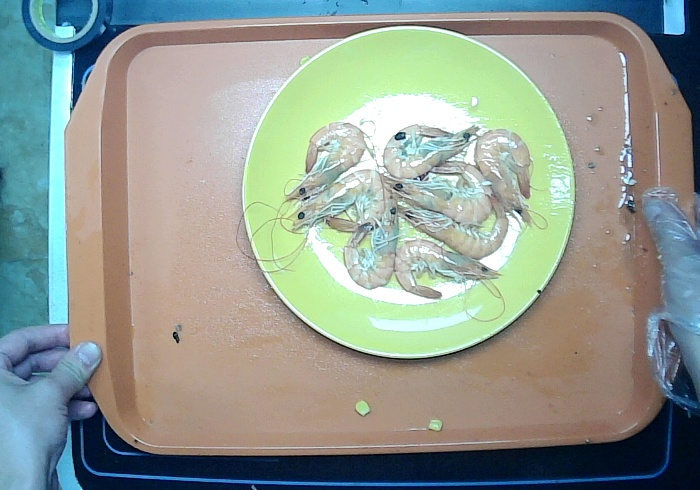HZYJPL-Huang_Se_Yuan_Pan: (239, 24, 577, 360)
